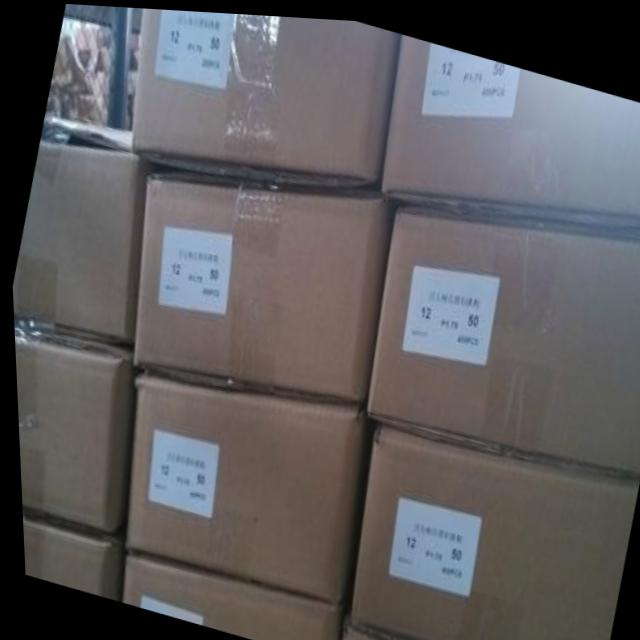box: (360, 202, 640, 477), (343, 420, 634, 640), (129, 172, 395, 399), (118, 376, 368, 597), (378, 28, 640, 226), (130, 7, 399, 183), (10, 116, 144, 345), (11, 324, 131, 530), (115, 552, 345, 640), (18, 518, 118, 600), (335, 615, 393, 640)
